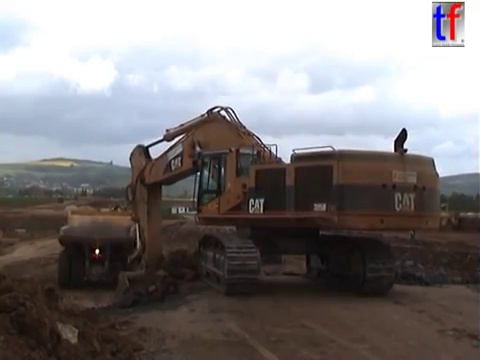excavator: (112, 102, 445, 312), (106, 200, 134, 222)
truck: (55, 203, 151, 293), (222, 196, 306, 270), (72, 194, 81, 203), (56, 195, 65, 204)
worker: (406, 219, 419, 243)
